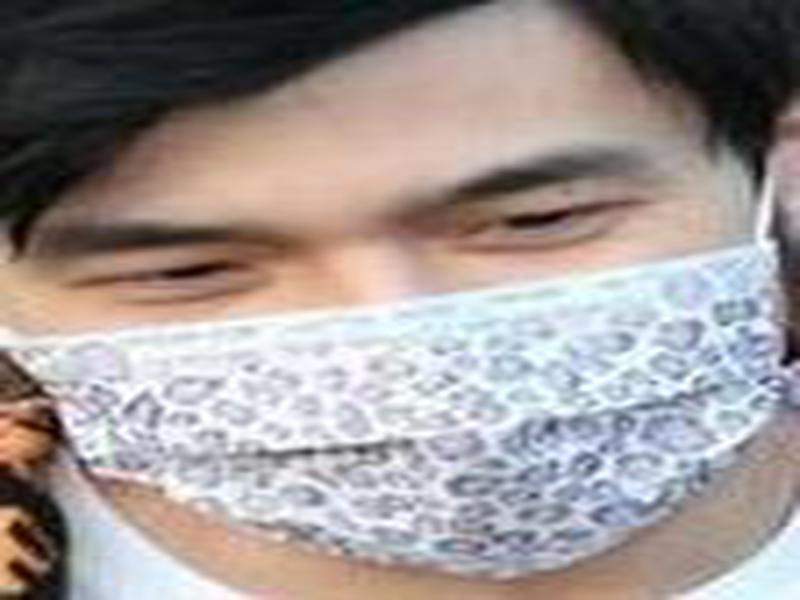with_mask: (1, 3, 788, 589)
